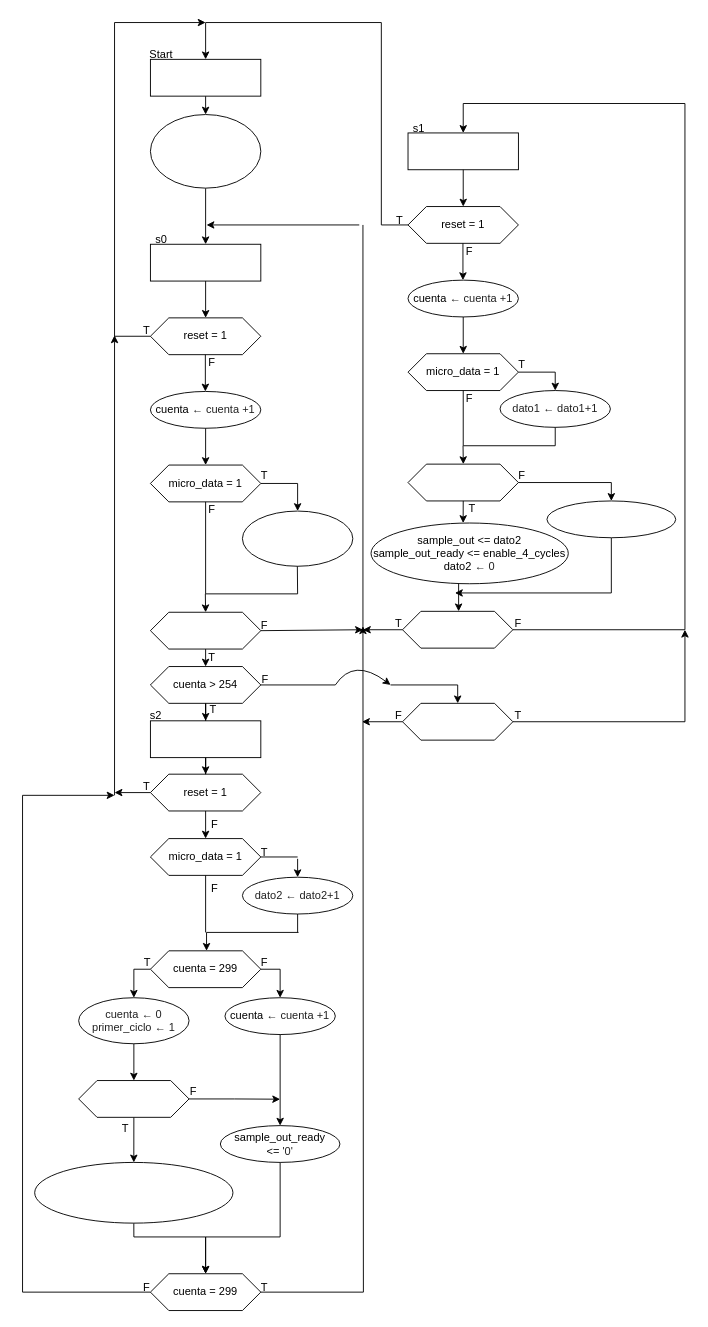
Some shapes in this 708 by 1327 pixel diagram are drawn without their labels. Here are the shapes that lost their labels. From the top down, the box of each, then its label:
(150, 114, 261, 188): cuenta ← 0 primer_ciclo ← 0 dato1 ← 0 dato2 ← 0
(407, 463, 518, 501): primer_ciclo = 1 & cuenta = 106
(242, 510, 353, 566): dato1 ← dato1+1 dato2 ← dato2+1
(546, 500, 676, 538): sample_out_ready <= '0 '
(150, 611, 261, 649): cuenta > 104
(402, 610, 513, 648): cuenta = 149
(402, 702, 513, 740): cuenta < 150
(78, 1080, 189, 1117): cuenta = 256
(34, 1162, 233, 1223): sample_out <= dato1 sample_out_ready <= enable_4_cycles dato1 ← 0
